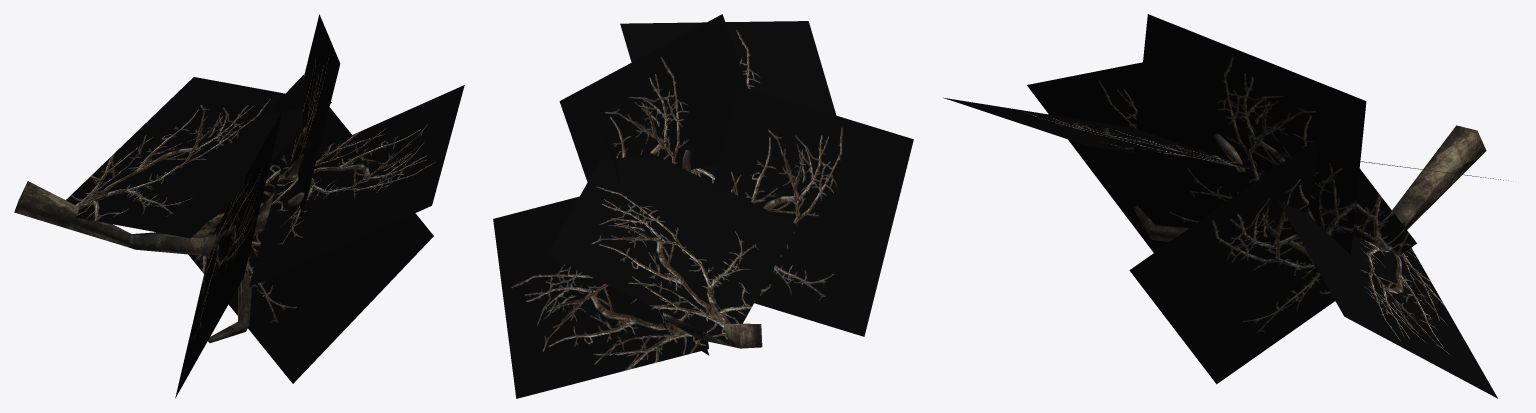
Rendered from galho_1.fbx.
3 renders of one model, left to right at view 1: azimuth 30°, elevation 25°; view 2: azimuth 150°, elevation 25°; view 3: azimuth 270°, elevation 25°, orthographic. The views are drawn at different scales.
Visible parts, largest first — view 1: galho_seco_1, tronco_1; view 2: galho_seco_1, tronco_1; view 3: galho_seco_1, tronco_1.
Boxes of the visible parts, bbox=[...] form: galho_seco_1: bbox=[66, 14, 464, 398]; tronco_1: bbox=[14, 153, 304, 343]; galho_seco_1: bbox=[493, 14, 913, 398]; tronco_1: bbox=[664, 150, 762, 348]; galho_seco_1: bbox=[943, 14, 1508, 398]; tronco_1: bbox=[1133, 125, 1486, 257].
Bounding box in the file's own units: 361 × 341 × 473.
